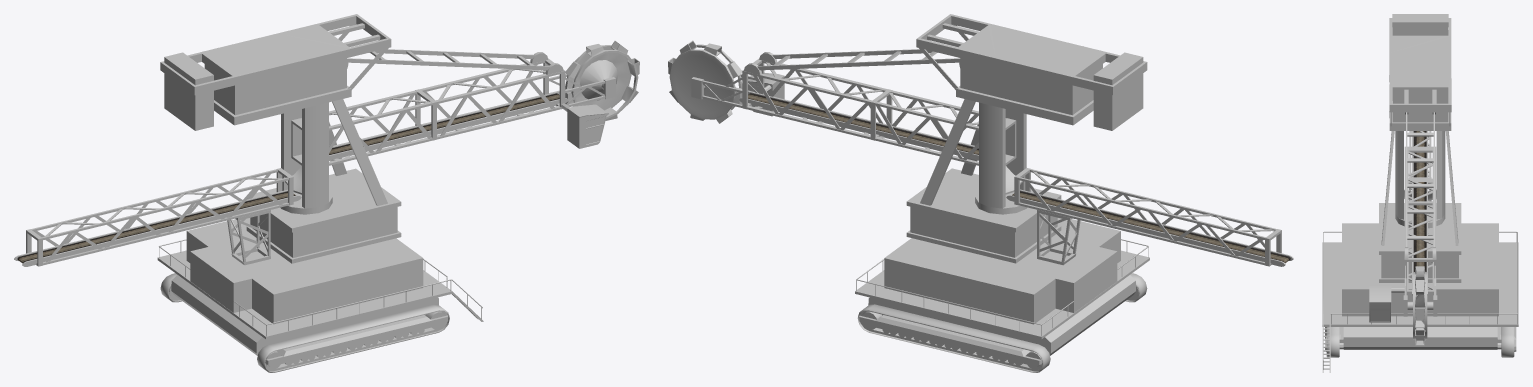
File: bucketwheelexcavator.FBX
3 views of the same model, side by side, from view 1: azimuth 30°, elevation 25°; view 2: azimuth 150°, elevation 25°; view 3: azimuth 270°, elevation 25° (orthographic). The views are drawn at different scales.
Parts seen in each view (by area): view 1: bucketwheel, bucketwheel_wheel, bucketwheeltracks, bucketwheelrearconv, bucketwheelfrontconv; view 2: bucketwheel, bucketwheel_wheel, bucketwheeltracks, bucketwheelrearconv, bucketwheelfrontconv; view 3: bucketwheel, bucketwheel_wheel, bucketwheelfrontconv, bucketwheeltracks, bucketwheelrearconv.
Part boxes in pixels (x1=…): bucketwheel: x1=14, y1=14, x2=615, y2=369; bucketwheel_wheel: x1=565, y1=41, x2=639, y2=120; bucketwheeltracks: x1=160, y1=273, x2=449, y2=372; bucketwheelrearconv: x1=17, y1=191, x2=295, y2=263; bucketwheelfrontconv: x1=329, y1=93, x2=559, y2=154; bucketwheel: x1=691, y1=14, x2=1293, y2=369; bucketwheel_wheel: x1=668, y1=40, x2=742, y2=123; bucketwheeltracks: x1=857, y1=273, x2=1147, y2=372; bucketwheelrearconv: x1=1012, y1=191, x2=1290, y2=263; bucketwheelfrontconv: x1=748, y1=93, x2=978, y2=154; bucketwheel: x1=1322, y1=14, x2=1518, y2=372; bucketwheel_wheel: x1=1407, y1=266, x2=1433, y2=345; bucketwheelfrontconv: x1=1413, y1=182, x2=1426, y2=271; bucketwheeltracks: x1=1326, y1=327, x2=1514, y2=357; bucketwheelrearconv: x1=1413, y1=131, x2=1426, y2=177.
Bounding box in the file's own units: 51.16 × 21.93 × 15.51.
